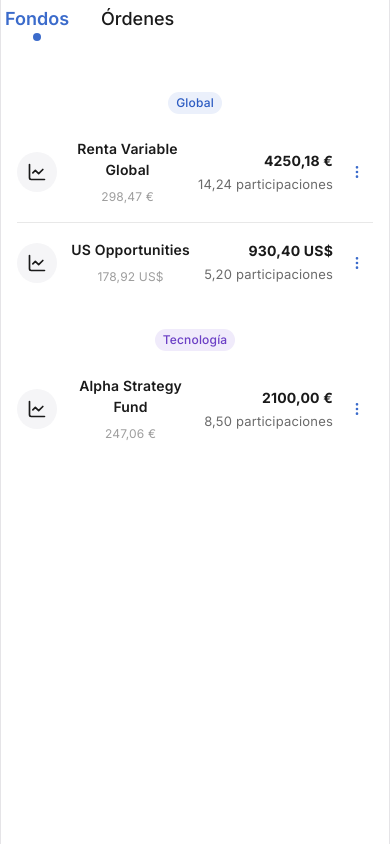
PortfolioView › opens the transfer dialog from the portfolio contextual menu
This screenshot has width=390, height=844.
What coordinates should you click on to do the following:
click the button named "acciones para alpha strategy fund"
I would click on:
 (357, 409)
Its box is [341, 393, 373, 425].
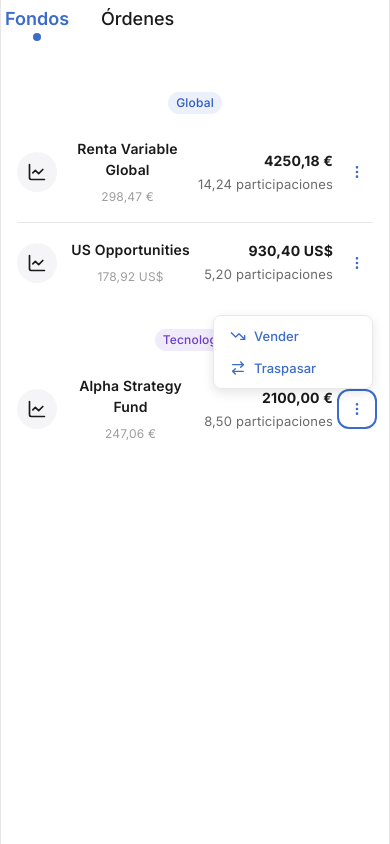
What coordinates should you click on to do the following:
click the menu item "Traspasar"
I would click on:
 (293, 368)
Its box is [214, 352, 372, 384].
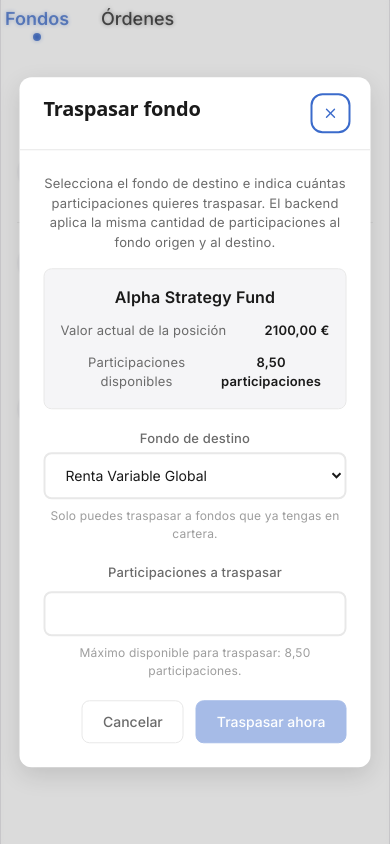
Expected: the dialog "Traspasar fondo" is shown
